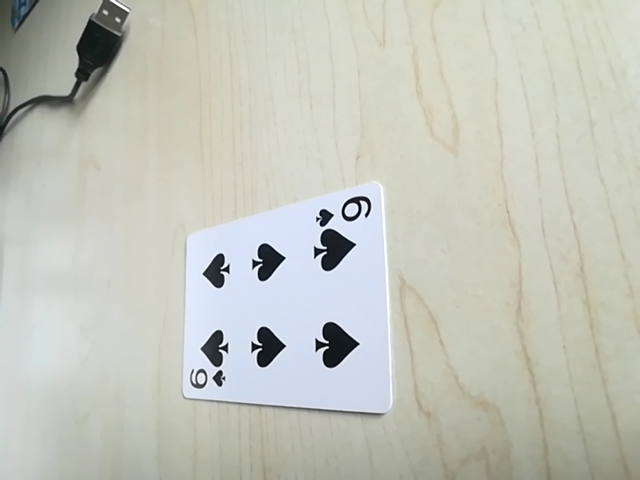ht 6: (314, 191, 376, 228), (182, 363, 229, 396)
